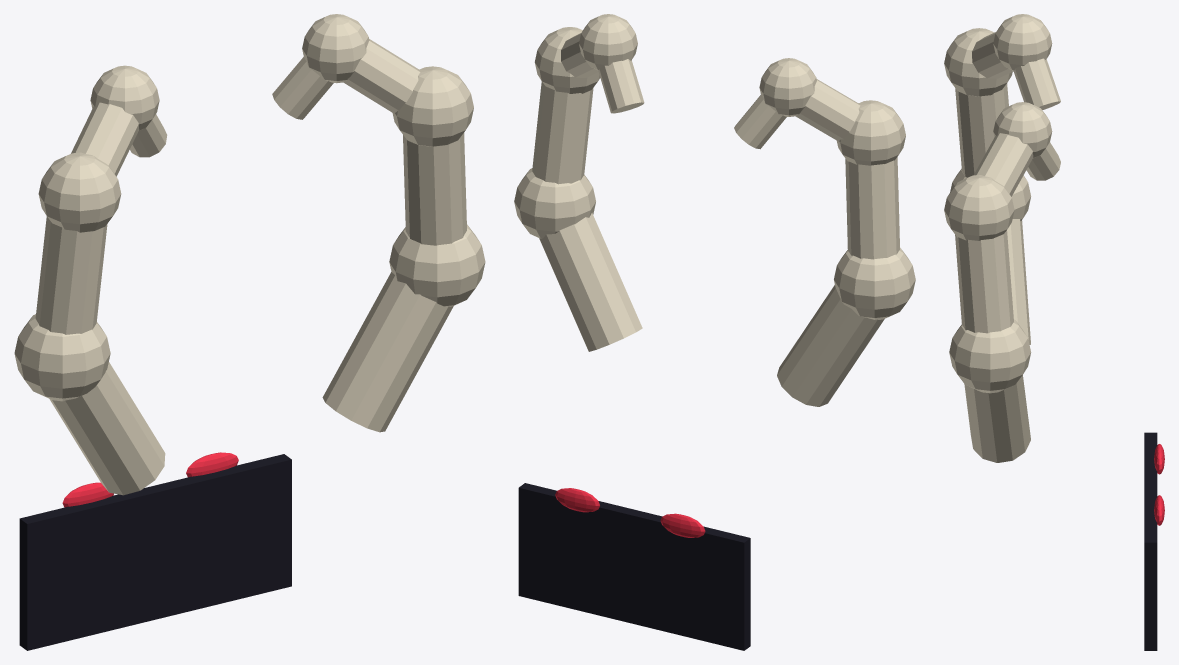
Rendered from BoneArmorHead.obj.
3 views of the same model, side by side, from view 1: azimuth 30°, elevation 25°; view 2: azimuth 150°, elevation 25°; view 3: azimuth 270°, elevation 25° (orthographic). The views are drawn at different scales.
Parts seen in each view (by area): view 1: BoneArmorHead; view 2: BoneArmorHead; view 3: BoneArmorHead.
Boxes of the visible parts, x1,y1,x2,y2 form: BoneArmorHead: [14, 14, 485, 650]; BoneArmorHead: [514, 14, 915, 650]; BoneArmorHead: [944, 14, 1164, 650].
Size of the model in its own units: 2.08 by 2.72 by 1.02.
